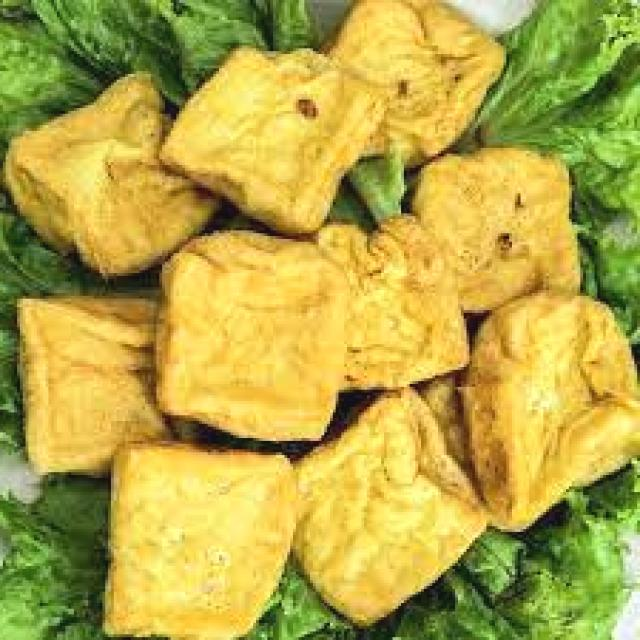tahu goreng: (430, 293, 640, 546), (0, 68, 236, 284), (296, 375, 492, 629), (14, 287, 259, 484), (156, 48, 387, 239), (156, 233, 347, 447), (105, 441, 302, 640)
